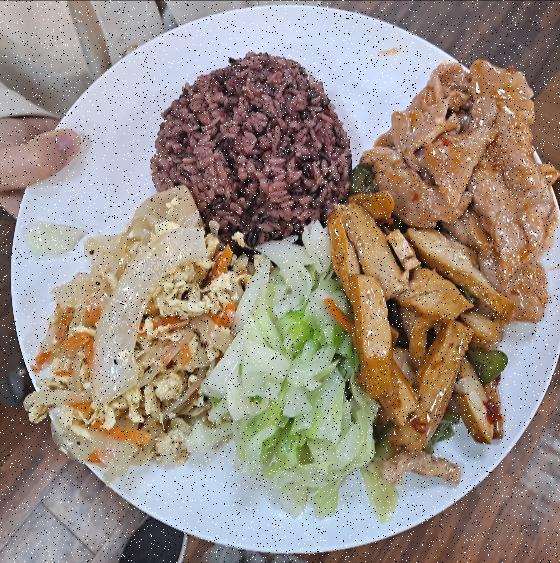plate: (0, 6, 560, 560)
purple rice: (148, 49, 360, 247)
side dish: (39, 189, 248, 461), (324, 203, 510, 458), (216, 232, 372, 514)
thai pork: (356, 58, 558, 314)
